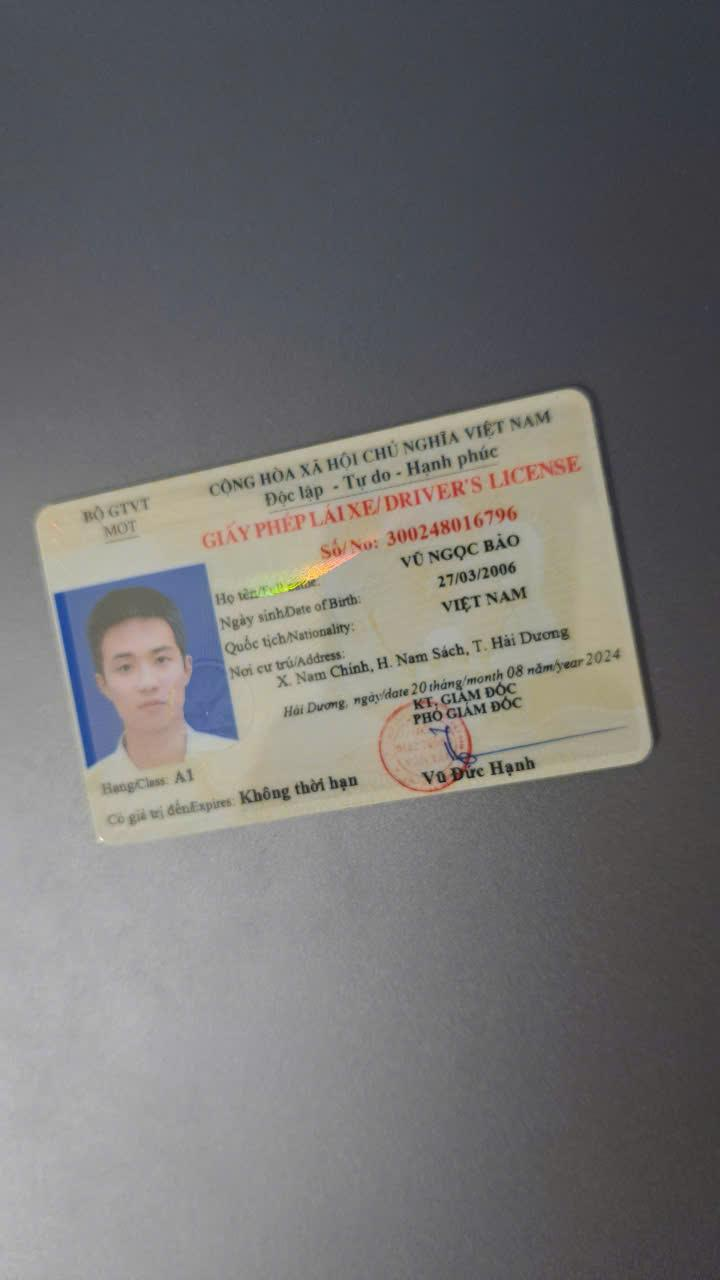gplx: (22, 379, 668, 858)
